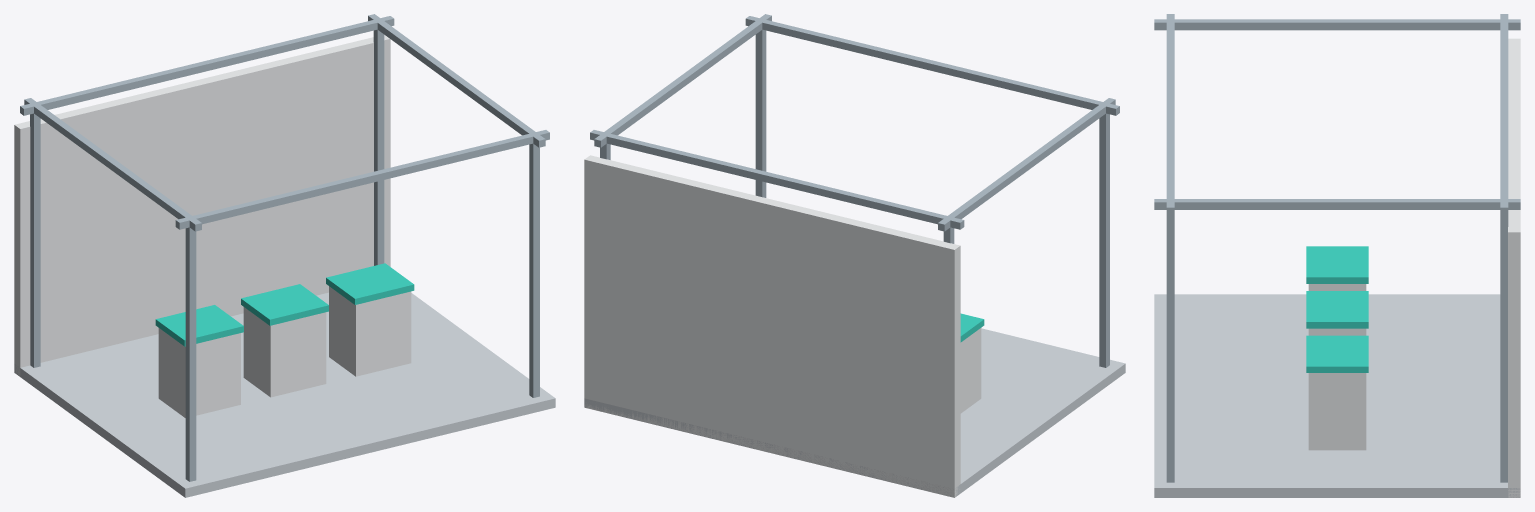
The picture shows the model from 3 angles, left to right: view 1: azimuth 30°, elevation 25°; view 2: azimuth 150°, elevation 25°; view 3: azimuth 270°, elevation 25°; orthographic projection. The views are drawn at different scales.
Visible parts, largest first — view 1: Exhibition Booth Concept; view 2: Exhibition Booth Concept; view 3: Exhibition Booth Concept.
Part boxes in pixels (box(x1,y1,x2,y2)): Exhibition Booth Concept: box(14, 14, 555, 497); Exhibition Booth Concept: box(584, 14, 1125, 497); Exhibition Booth Concept: box(1154, 14, 1520, 497).
Size of the model in its own units: 5 by 3.49 by 4.
